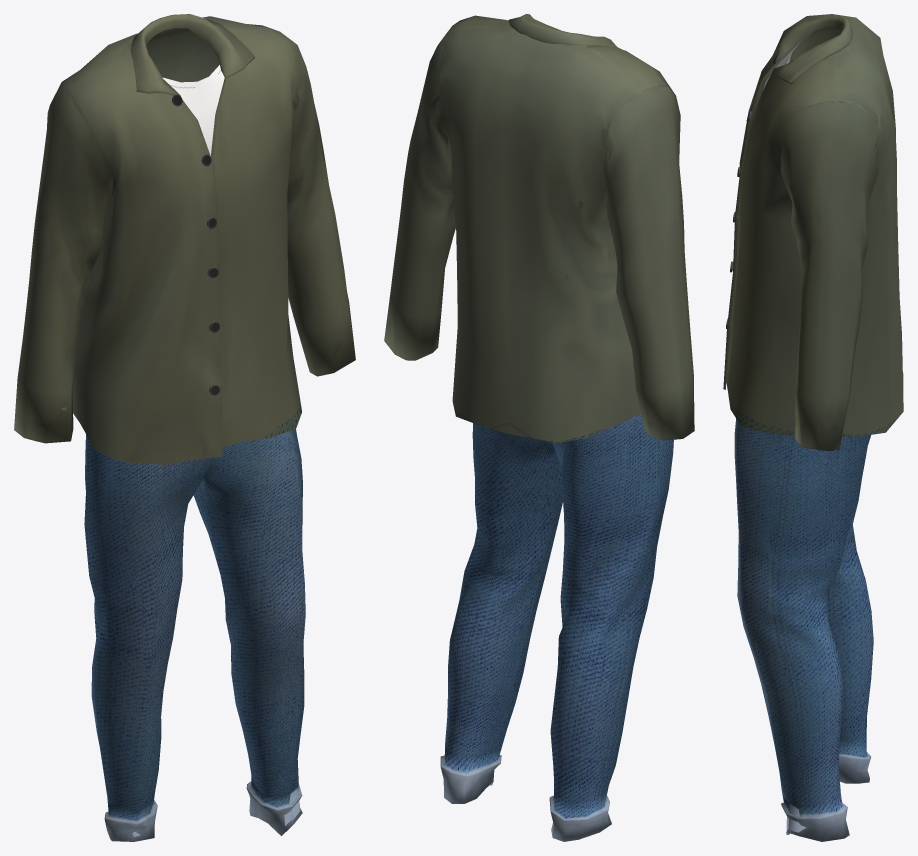
The model's file is Adventure Ish.fbx.
3 renders of one model, left to right at view 1: azimuth 30°, elevation 25°; view 2: azimuth 150°, elevation 25°; view 3: azimuth 270°, elevation 25°, orthographic. The views are drawn at different scales.
Parts seen in each view (by area): view 1: baju; view 2: baju; view 3: baju.
Part boxes in pixels (x1=…): baju: x1=14, y1=14, x2=355, y2=841; baju: x1=384, y1=14, x2=694, y2=841; baju: x1=723, y1=14, x2=903, y2=841.
Bounding box in the file's own units: 63.38 × 153 × 32.39.
